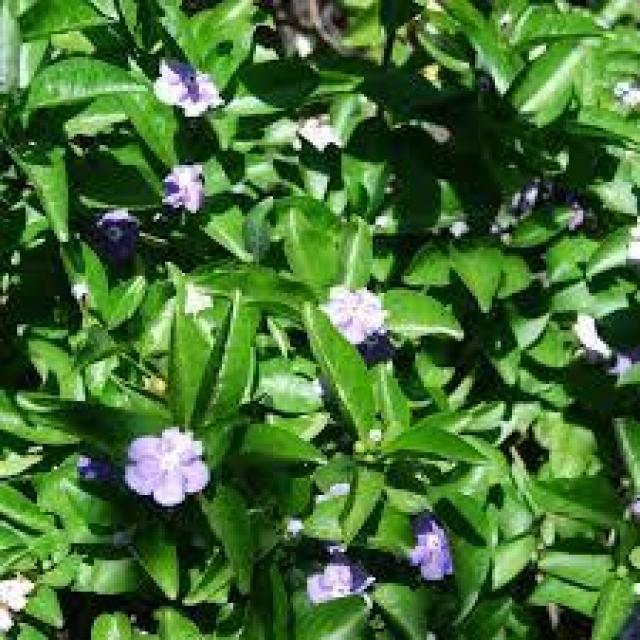organic waste: (309, 273, 405, 361), (121, 414, 212, 505), (406, 514, 460, 584), (165, 158, 219, 217), (307, 565, 373, 610)
